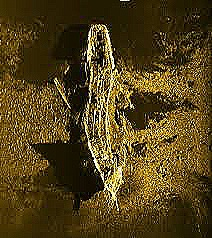ship: (79, 22, 131, 212)
